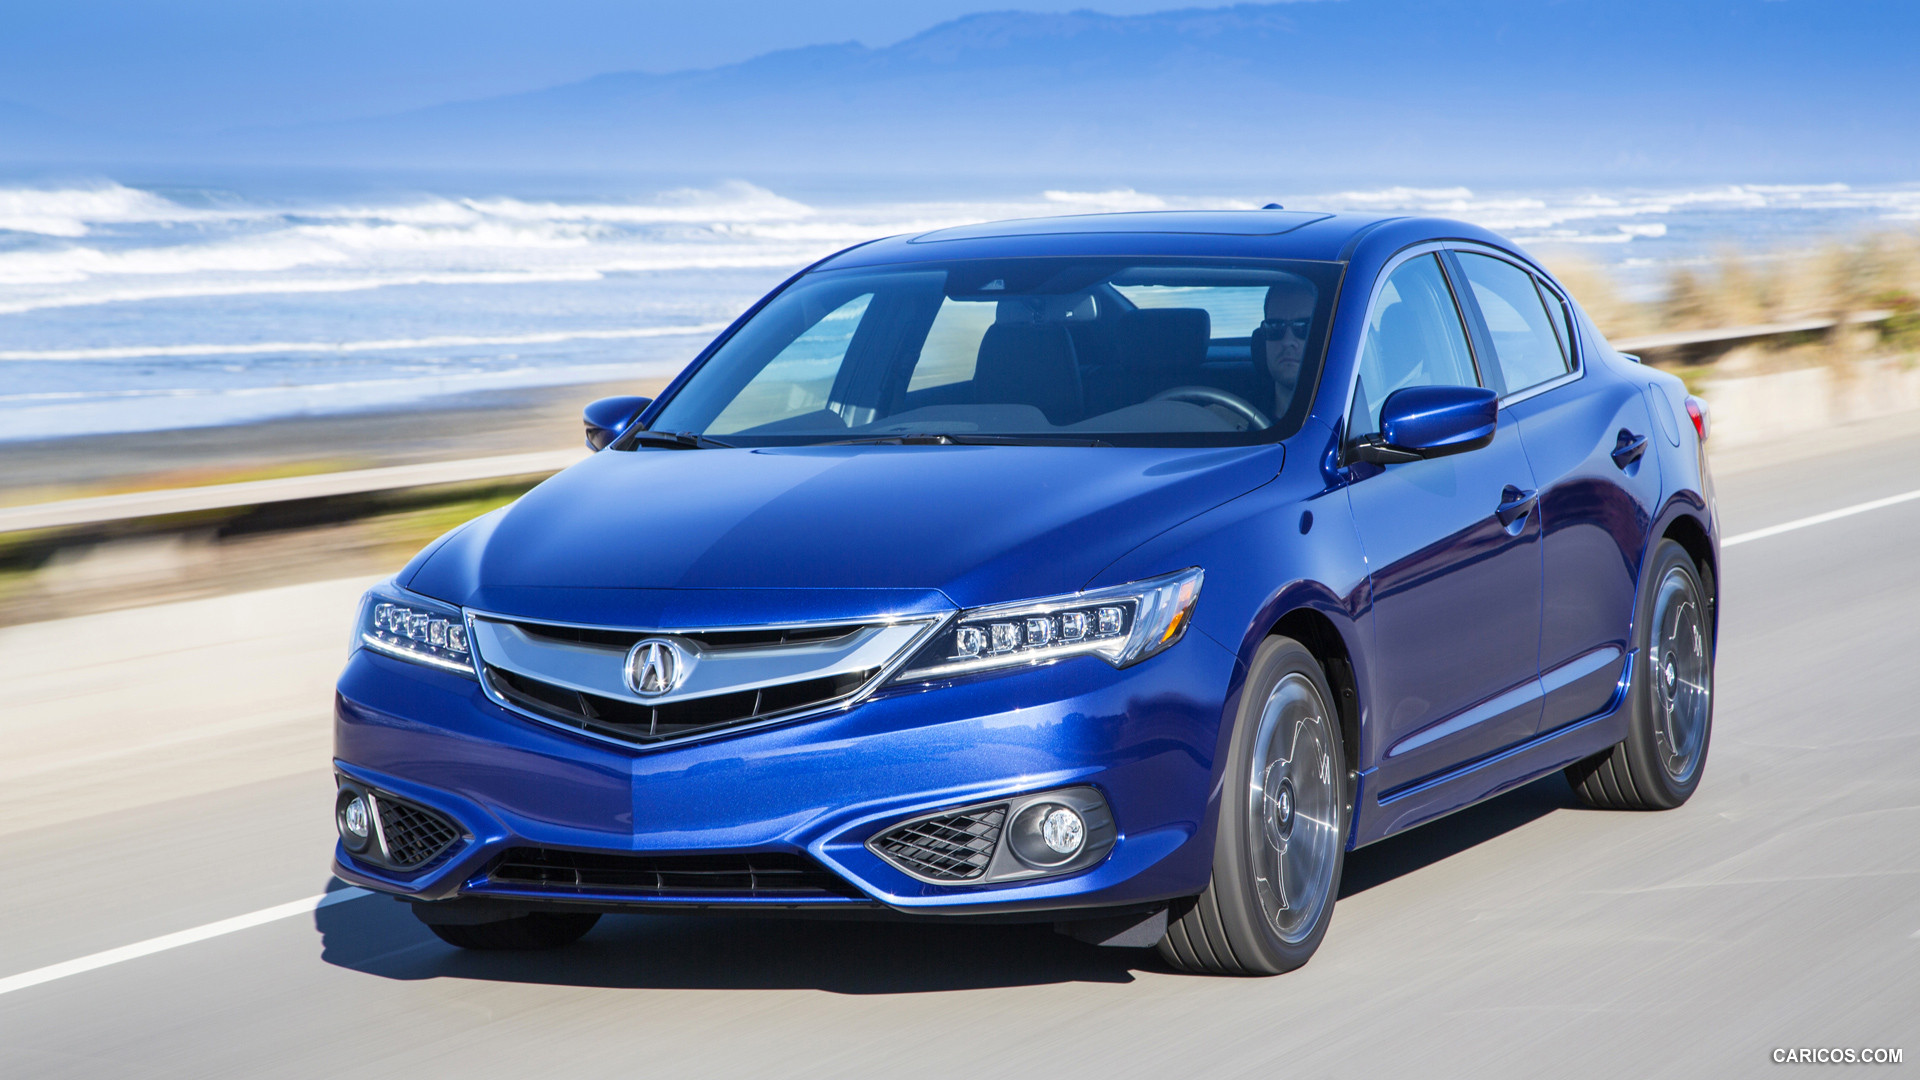Fog Lamp & Scope: (861, 777, 1129, 893)
Front: (320, 443, 1296, 924)
Front Bumper: (324, 655, 1246, 920)
Grill: (456, 597, 959, 757)
Headlight: (870, 556, 1211, 700)
